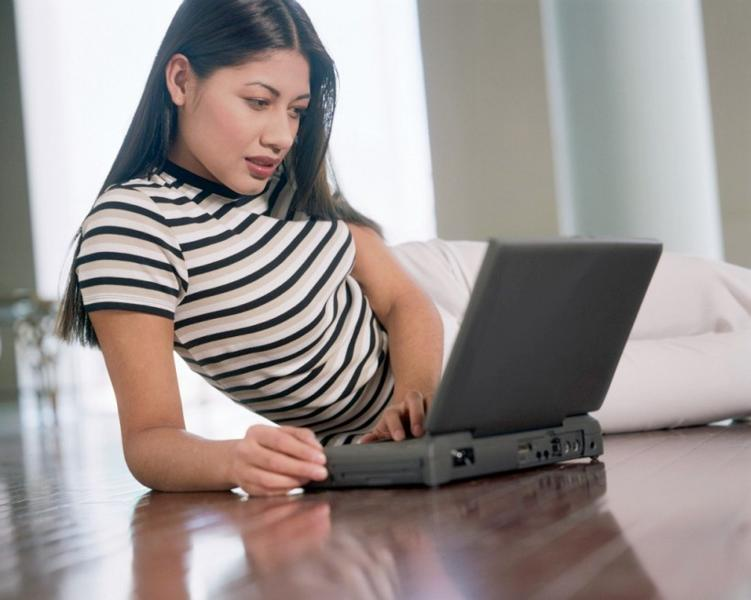person: (63, 1, 751, 497)
